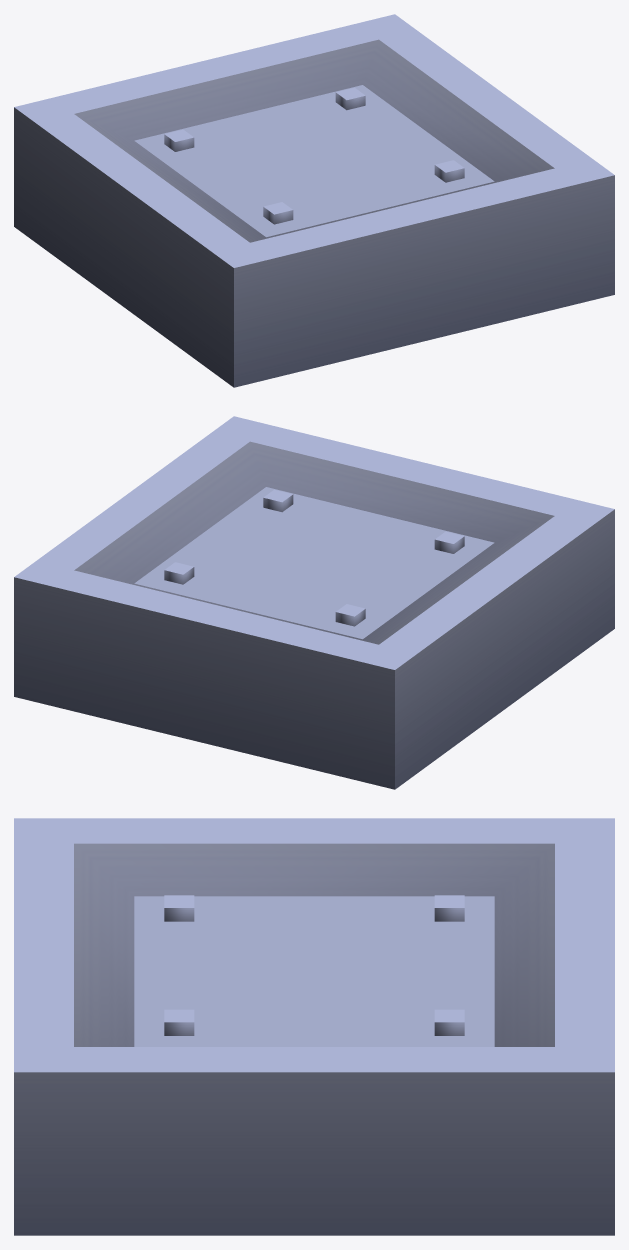
Rendered from floor-panel.obj.
The picture shows the model from 3 angles, top to bottom: view 1: azimuth 30°, elevation 25°; view 2: azimuth 150°, elevation 25°; view 3: azimuth 270°, elevation 25°; orthographic projection. The views are drawn at different scales.
Visible parts, largest first — view 1: floor-panel; view 2: floor-panel; view 3: floor-panel.
Part boxes in pixels (x1,y1,x2,y2): floor-panel: (14,14,614,387); floor-panel: (14,416,614,789); floor-panel: (14,818,614,1235).
Size of the model in its own units: 1 by 0.3 by 1.
1 material, 1 textured.
